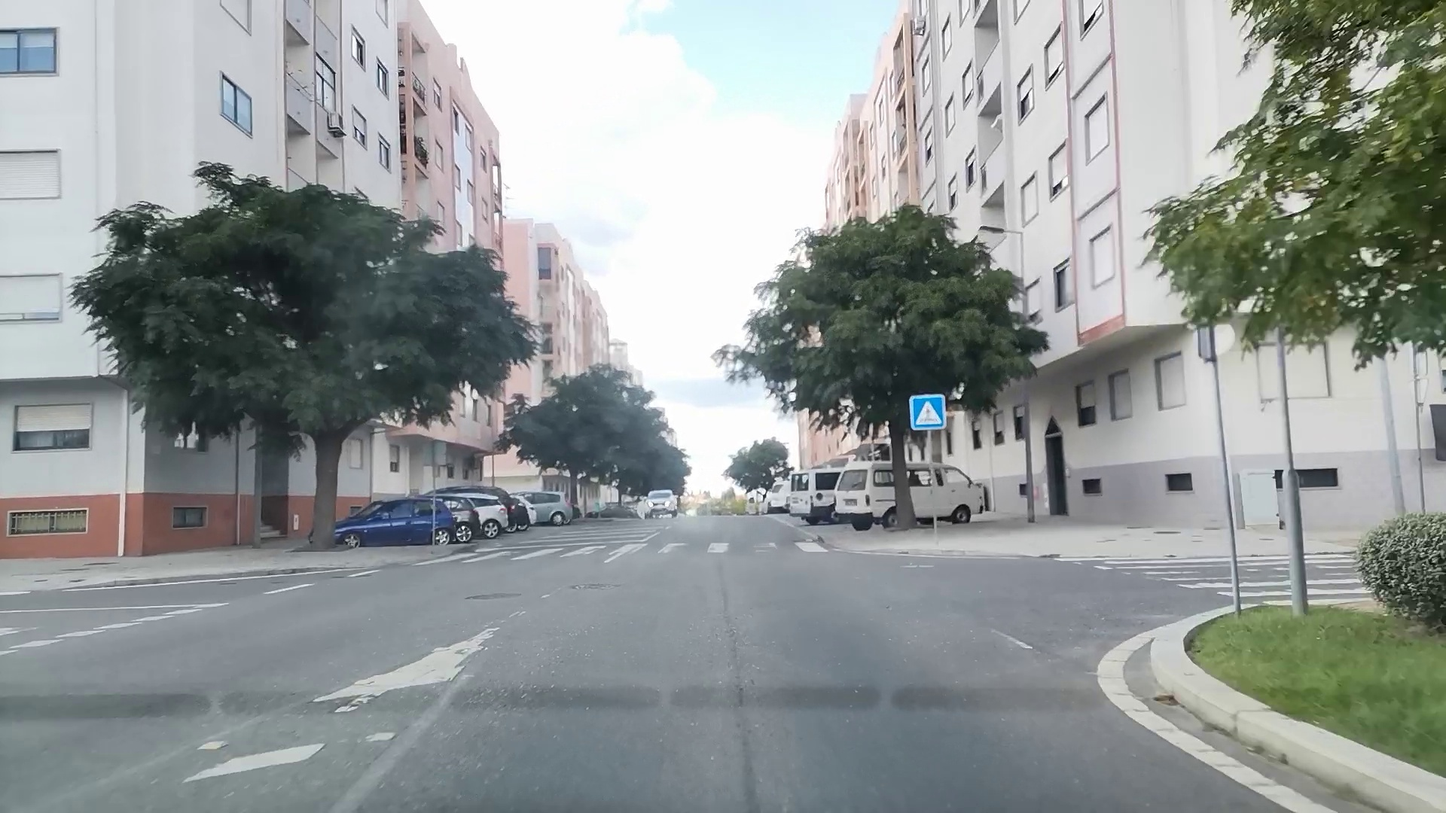Stairs: (419, 541, 824, 565)
